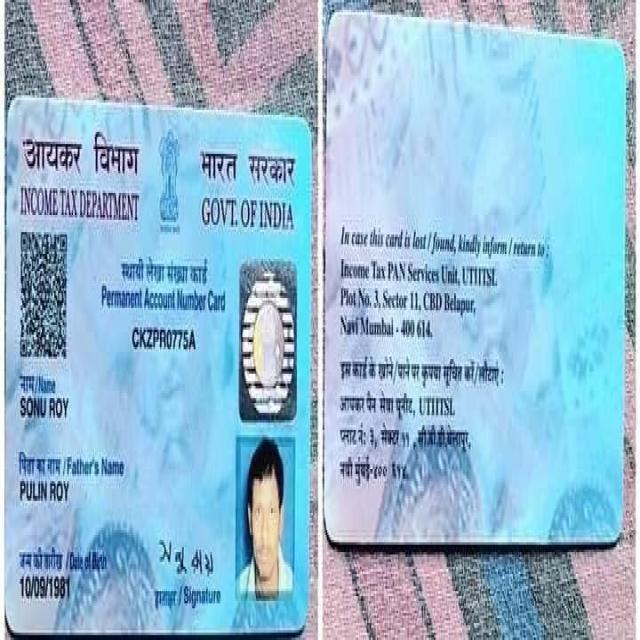pan_card: (6, 98, 311, 636), (323, 12, 626, 545)
